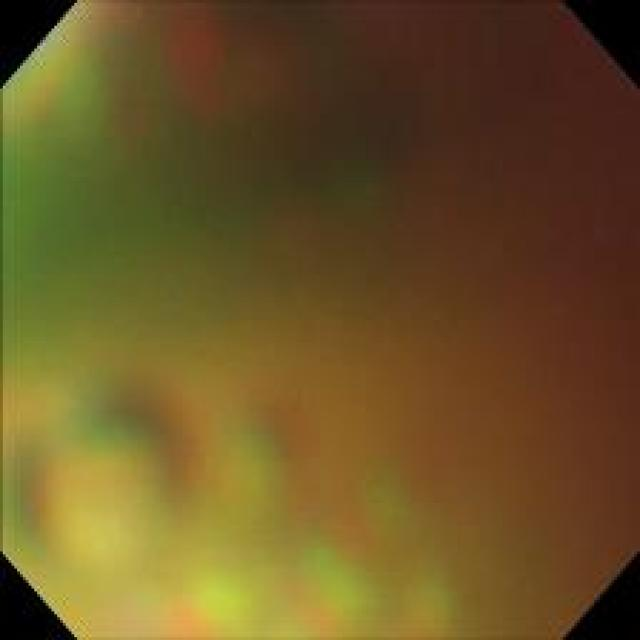color misalignment: (9, 15, 636, 629), (9, 380, 451, 629), (4, 15, 392, 278)
